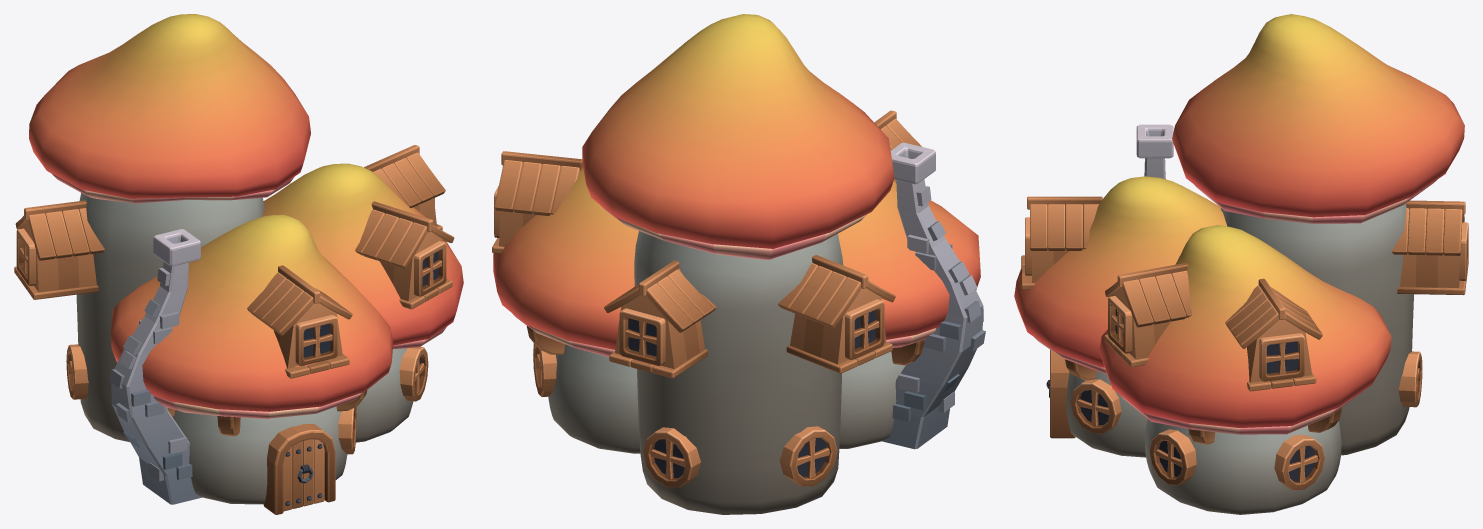
The model's file is mt_house11.fbx.
3 renders of one model, left to right at view 1: azimuth 30°, elevation 25°; view 2: azimuth 150°, elevation 25°; view 3: azimuth 270°, elevation 25°, orthographic. The views are drawn at different scales.
Visible parts, largest first — view 1: h11; view 2: h11; view 3: h11.
Part boxes in pixels (x1=…): h11: x1=14, y1=14, x2=463, y2=514; h11: x1=492, y1=14, x2=985, y2=514; h11: x1=1014, y1=14, x2=1468, y2=514.
Size of the model in its own units: 1041 by 1056 by 1068.
